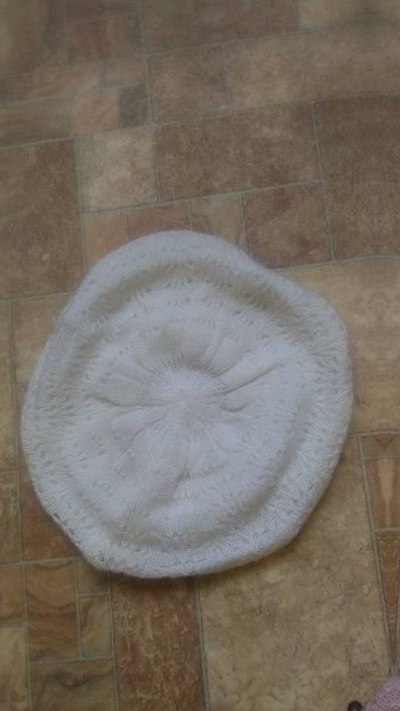Hat: (0, 185, 376, 609), (390, 169, 400, 593)
